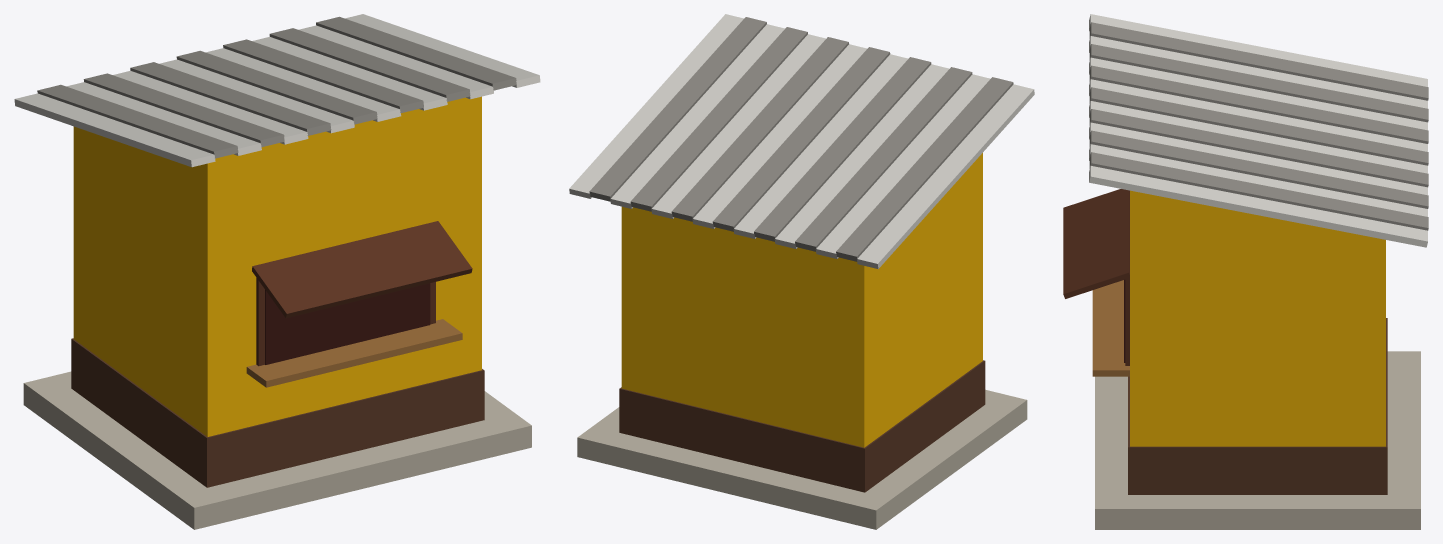
File: mobile_money_kiosk.glb
The picture shows the model from 3 angles, left to right: view 1: azimuth 30°, elevation 25°; view 2: azimuth 150°, elevation 25°; view 3: azimuth 270°, elevation 25°; orthographic projection. The views are drawn at different scales.
Visible parts, largest first — view 1: Walls, Roof, Details, Base; view 2: Walls, Roof, Base; view 3: Walls, Roof, Base, Details.
Boxes of the visible parts, x1=… form: Walls: x1=71, y1=96, x2=484, y2=487; Roof: x1=14, y1=14, x2=540, y2=167; Details: x1=246, y1=221, x2=472, y2=387; Base: x1=23, y1=371, x2=531, y2=529; Walls: x1=619, y1=153, x2=985, y2=492; Roof: x1=569, y1=14, x2=1034, y2=269; Base: x1=577, y1=389, x2=1027, y2=529; Walls: x1=1128, y1=190, x2=1387, y2=494; Roof: x1=1089, y1=14, x2=1428, y2=247; Base: x1=1095, y1=351, x2=1420, y2=529; Details: x1=1063, y1=189, x2=1129, y2=376.
Size of what is drawn, in the model's own units: 3.3 by 3.4 by 3.14.
